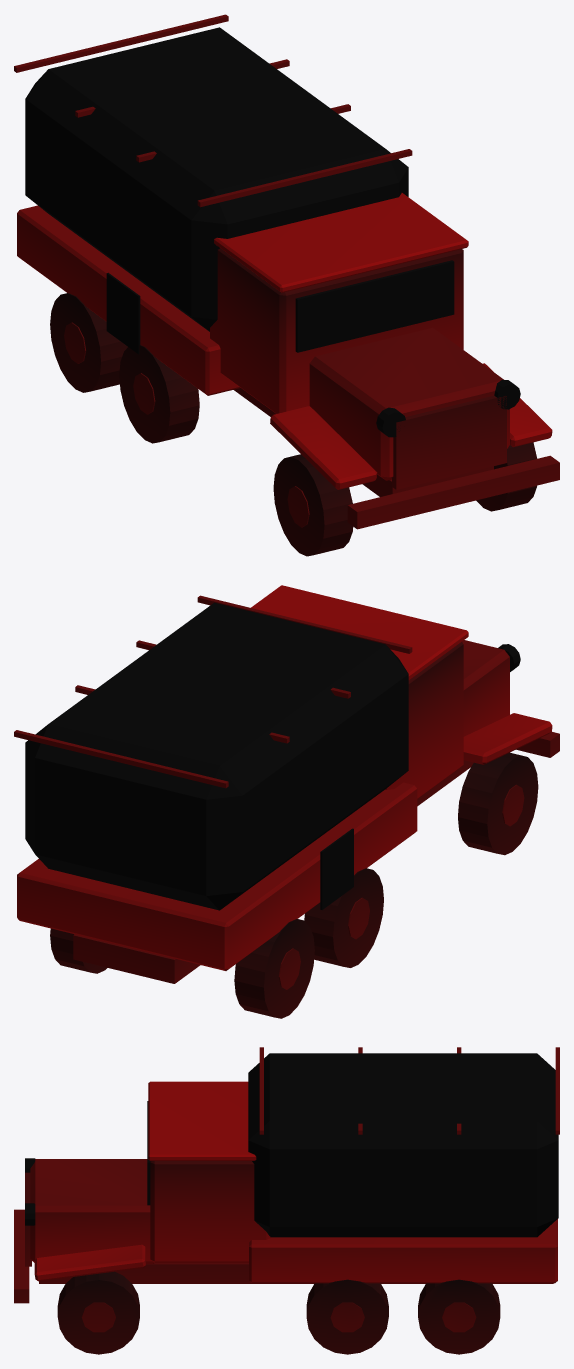
File: truck_cargo.glb
The picture shows the model from 3 angles, top to bottom: view 1: azimuth 30°, elevation 25°; view 2: azimuth 150°, elevation 25°; view 3: azimuth 270°, elevation 25°; orthographic projection. The views are drawn at different scales.
Parts seen in each view (by area): view 1: truck_body, tarp; view 2: tarp, truck_body; view 3: truck_body, tarp.
Boxes of the visible parts, <box> form: truck_body: <box>14,14,559,556</box>; tarp: <box>25,27,408,331</box>; tarp: <box>25,602,408,910</box>; truck_body: <box>14,585,559,1018</box>; truck_body: <box>14,1047,559,1354</box>; tarp: <box>248,1053,558,1237</box>.
Size of what is drawn, in the model's own units: 2.36 by 2.9 by 6.37.
